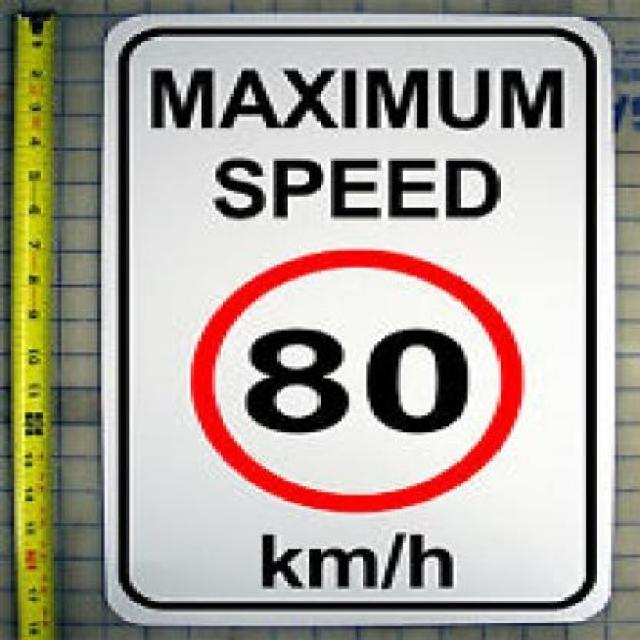forb_speed_over_80: (197, 256, 521, 512)
